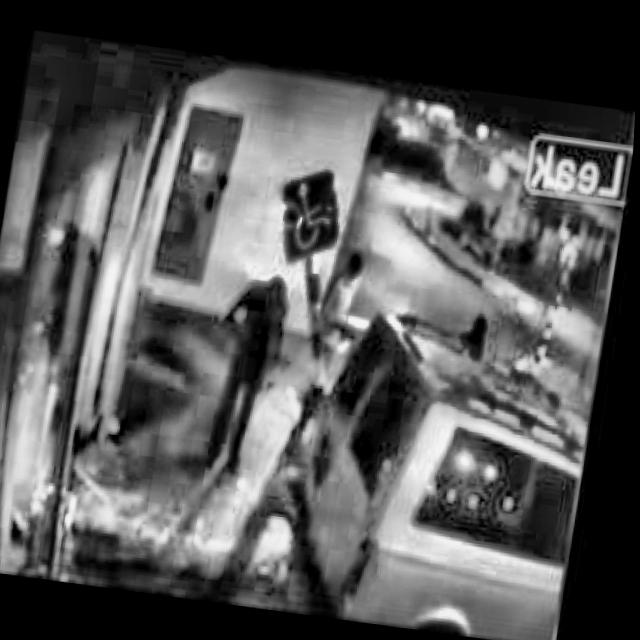burglary: (0, 199, 488, 628)
